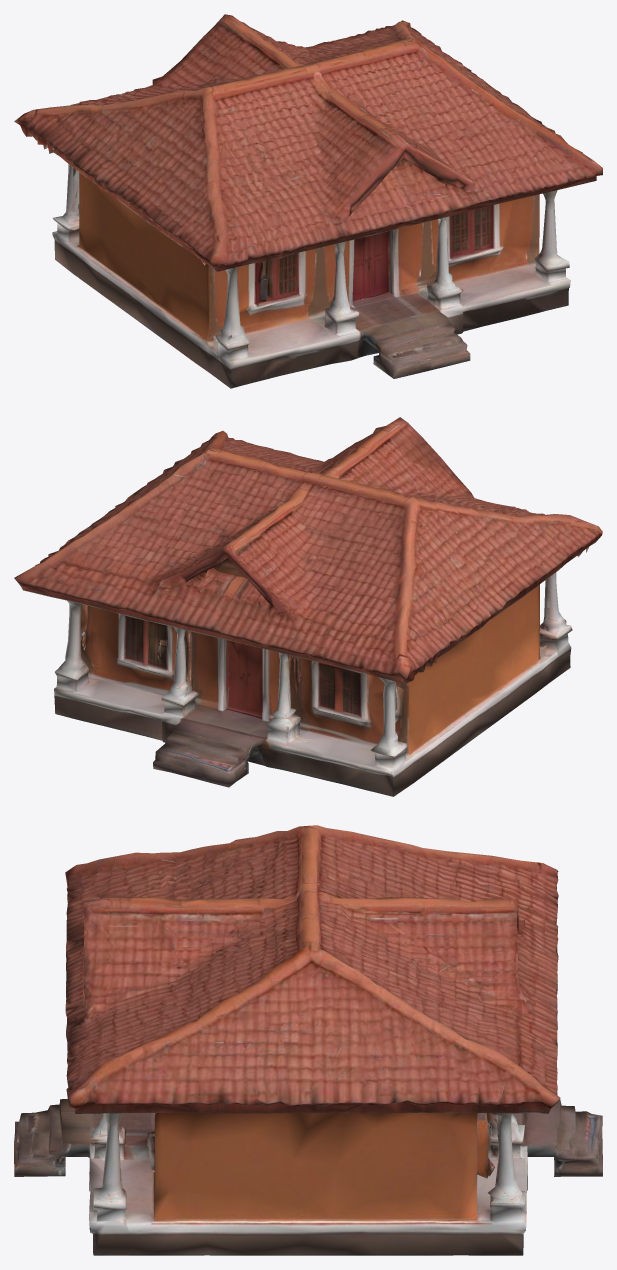
Rendered from house_trad.glb.
3 views of the same model, one above another, from view 1: azimuth 30°, elevation 25°; view 2: azimuth 150°, elevation 25°; view 3: azimuth 270°, elevation 25° (orthographic). The views are drawn at different scales.
Bounding box in the file's own units: 1.9 × 1.01 × 1.99.
Materials: 1 (1 with a texture image).
